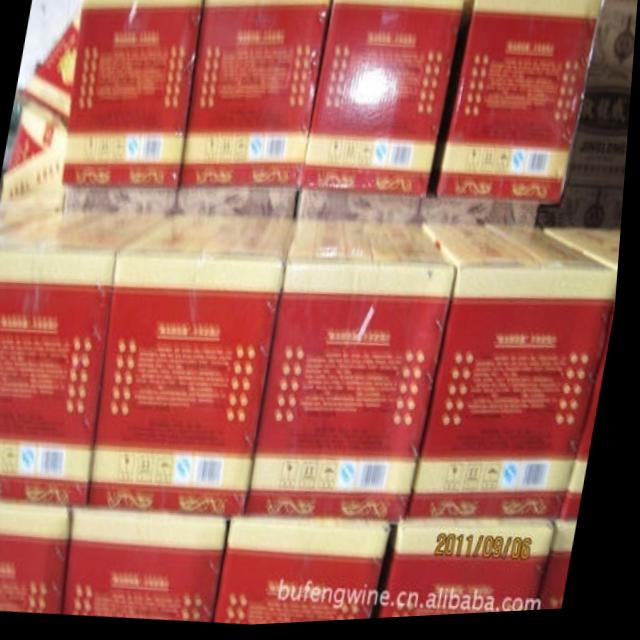box: (95, 214, 301, 520), (253, 220, 459, 525), (415, 228, 622, 527), (0, 213, 174, 508), (301, 0, 466, 228), (430, 0, 604, 209), (180, 0, 332, 220), (64, 0, 203, 215), (70, 507, 239, 623), (222, 519, 403, 627), (382, 525, 564, 623), (566, 284, 622, 526), (568, 4, 638, 193), (0, 499, 80, 613), (23, 0, 80, 133), (422, 182, 544, 232), (3, 133, 71, 213), (9, 86, 71, 170), (540, 191, 627, 234), (545, 234, 625, 280), (546, 525, 585, 616), (0, 197, 63, 237)
